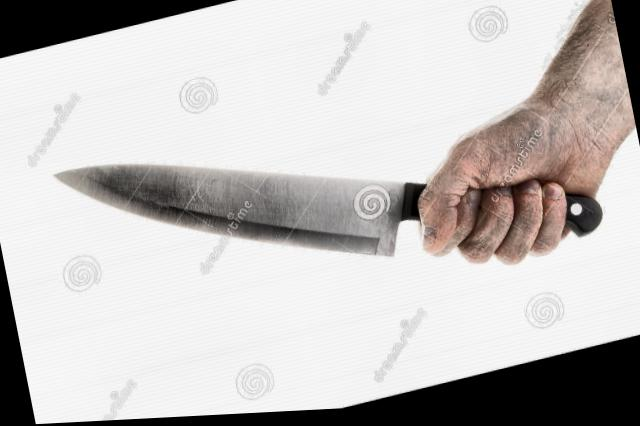knife: (38, 53, 558, 373)
